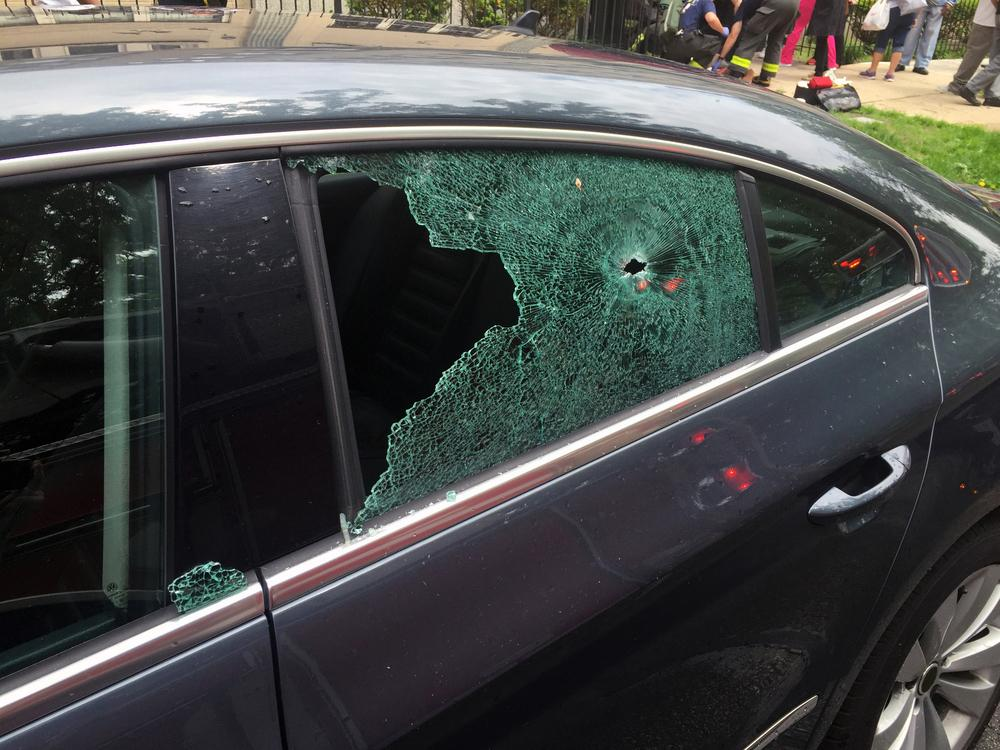glass shatter: (281, 150, 761, 527)
